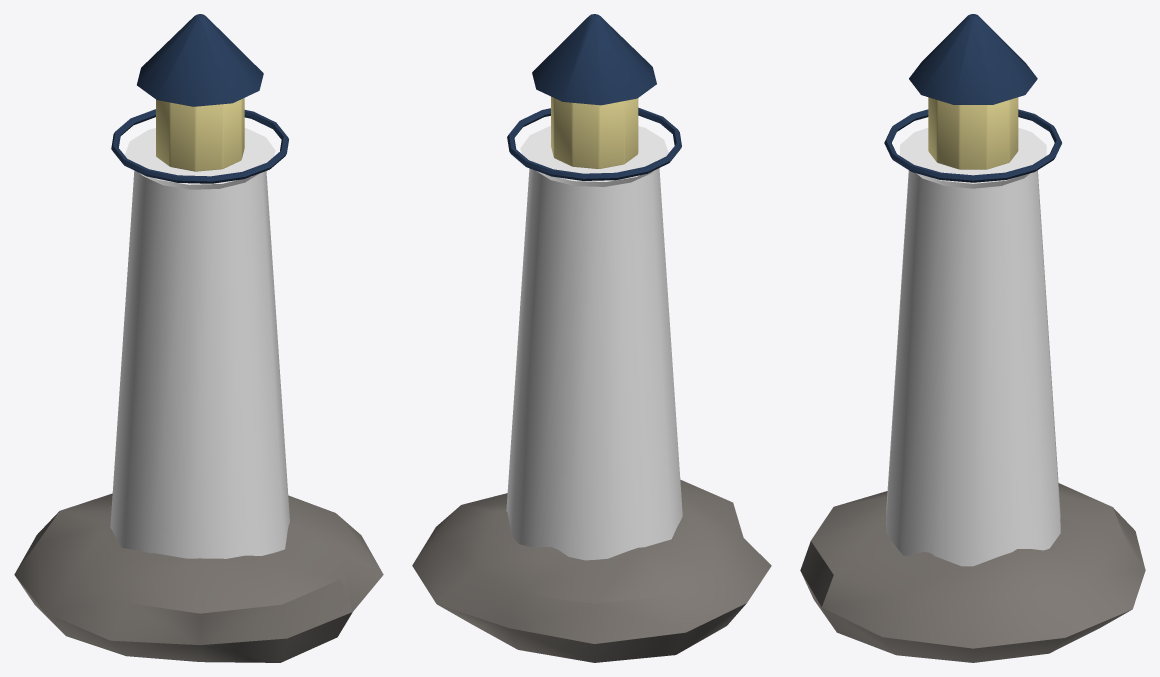
Rendered from HeroHarbour.fbx.
3 views of the same model, side by side, from view 1: azimuth 30°, elevation 25°; view 2: azimuth 150°, elevation 25°; view 3: azimuth 270°, elevation 25° (orthographic).
Parts seen in each view (by area): view 1: HeroHarbour; view 2: HeroHarbour; view 3: HeroHarbour.
Part boxes in pixels (box(x1,y1,x2,y2)): HeroHarbour: box(14, 14, 383, 662); HeroHarbour: box(412, 14, 771, 662); HeroHarbour: box(800, 14, 1145, 662).
Bounding box in the file's own units: 723 × 1349 × 688.
